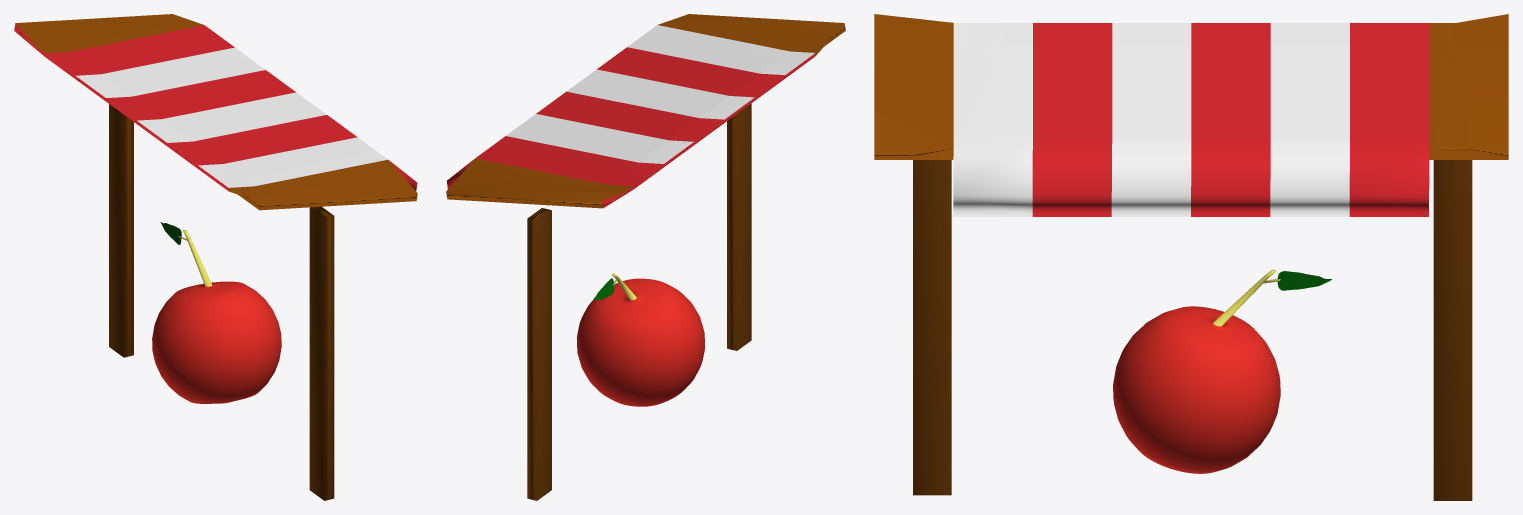
File: market-2.fbx
3 views of the same model, side by side, from view 1: azimuth 30°, elevation 25°; view 2: azimuth 150°, elevation 25°; view 3: azimuth 270°, elevation 25° (orthographic). The views are drawn at different scales.
Visible parts, largest first — view 1: Cube.004, apple, Cube, Cube.001; view 2: Cube.004, apple, Cube.001, Cube; view 3: Cube.004, apple, Cube.001, Cube, Plane.001.
Boxes of the visible parts, bbox=[...] form: Cube.004: bbox=[14, 14, 417, 210]; apple: bbox=[152, 230, 281, 403]; Cube: bbox=[309, 206, 334, 500]; Cube.001: bbox=[109, 104, 133, 357]; Cube.004: bbox=[446, 14, 845, 208]; apple: bbox=[576, 273, 704, 406]; Cube.001: bbox=[527, 208, 551, 500]; Cube: bbox=[727, 103, 751, 350]; Cube.004: bbox=[874, 14, 1508, 216]; apple: bbox=[1113, 269, 1280, 473]; Cube.001: bbox=[1433, 160, 1472, 500]; Cube: bbox=[913, 160, 951, 495]; Plane.001: bbox=[1277, 271, 1331, 290].
Size of the model in its own units: 335 by 565 by 754.
